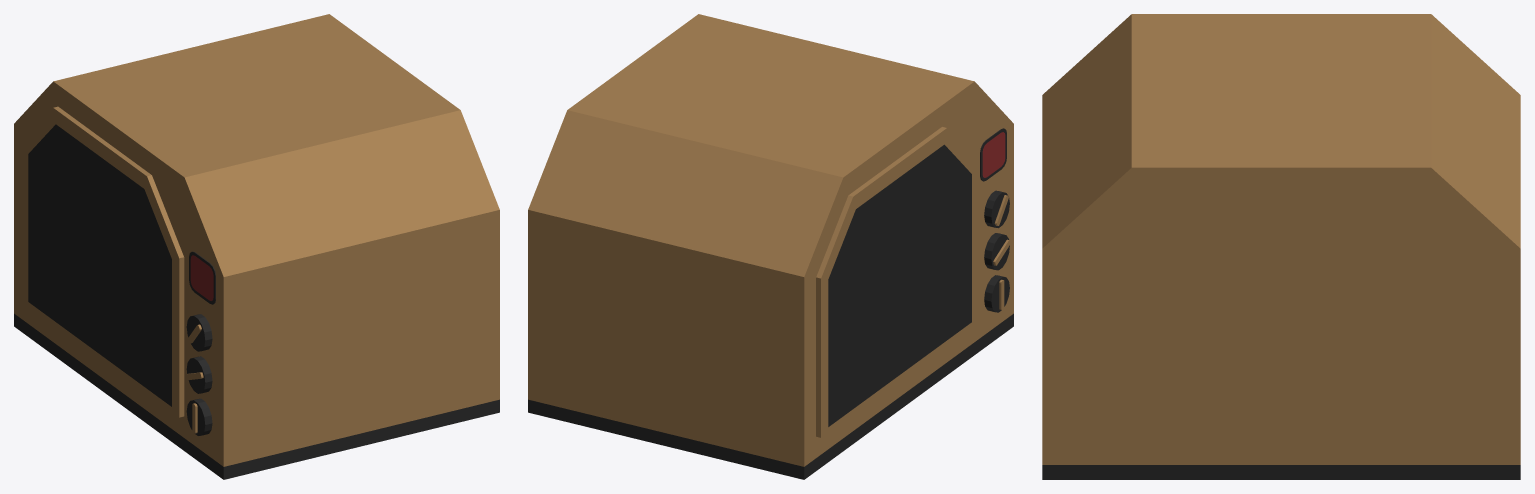
The model's file is Oven_1.fbx.
The picture shows the model from 3 angles, left to right: view 1: azimuth 30°, elevation 25°; view 2: azimuth 150°, elevation 25°; view 3: azimuth 270°, elevation 25°; orthographic projection. The views are drawn at different scales.
Visible parts, largest first — view 1: Oven_1, Oven_1 Door; view 2: Oven_1, Oven_1 Door; view 3: Oven_1.
Boxes of the visible parts, x1=… form: Oven_1: x1=14, y1=14, x2=499, y2=479; Oven_1 Door: x1=21, y1=106, x2=184, y2=417; Oven_1: x1=528, y1=14, x2=1013, y2=479; Oven_1 Door: x1=816, y1=127, x2=979, y2=437; Oven_1: x1=1042, y1=14, x2=1520, y2=479.
Size of the model in its own units: 0.4247 by 0.389 by 0.5399.
